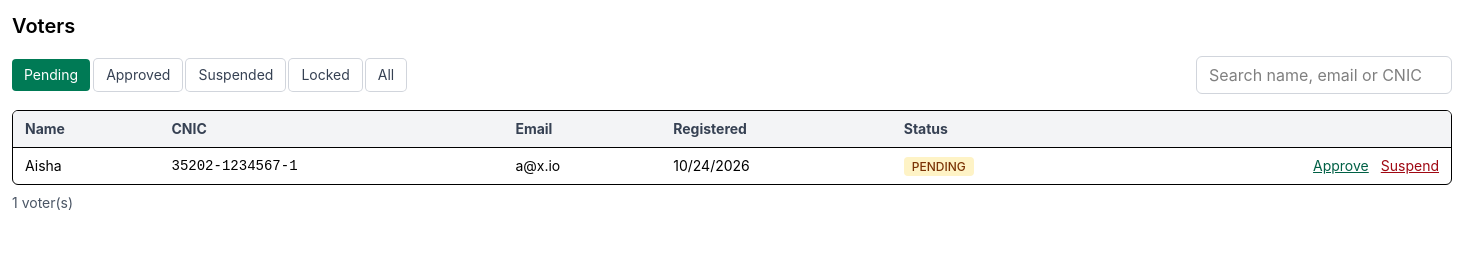
Test case: shows pending voters and approves one
What coordinates should you click on to do the following:
click the button with aria-label "Approve Aisha"
I would click on:
 (1341, 166)
Its box is [1313,156,1369,176].
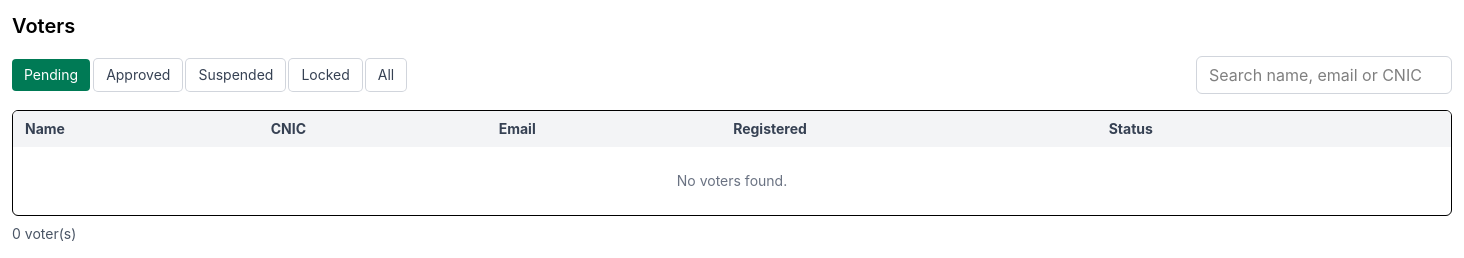
Now the text "No voters found." is shown, box [13,147,1451,215]
